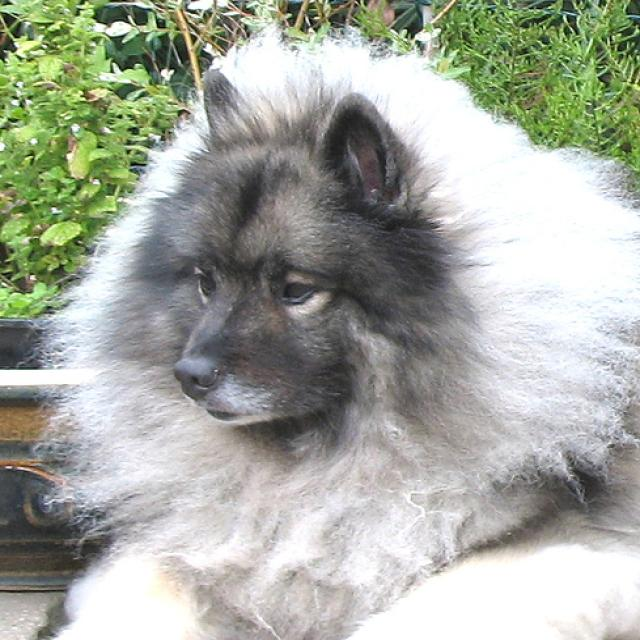dog-keeshond: (38, 41, 637, 637)
